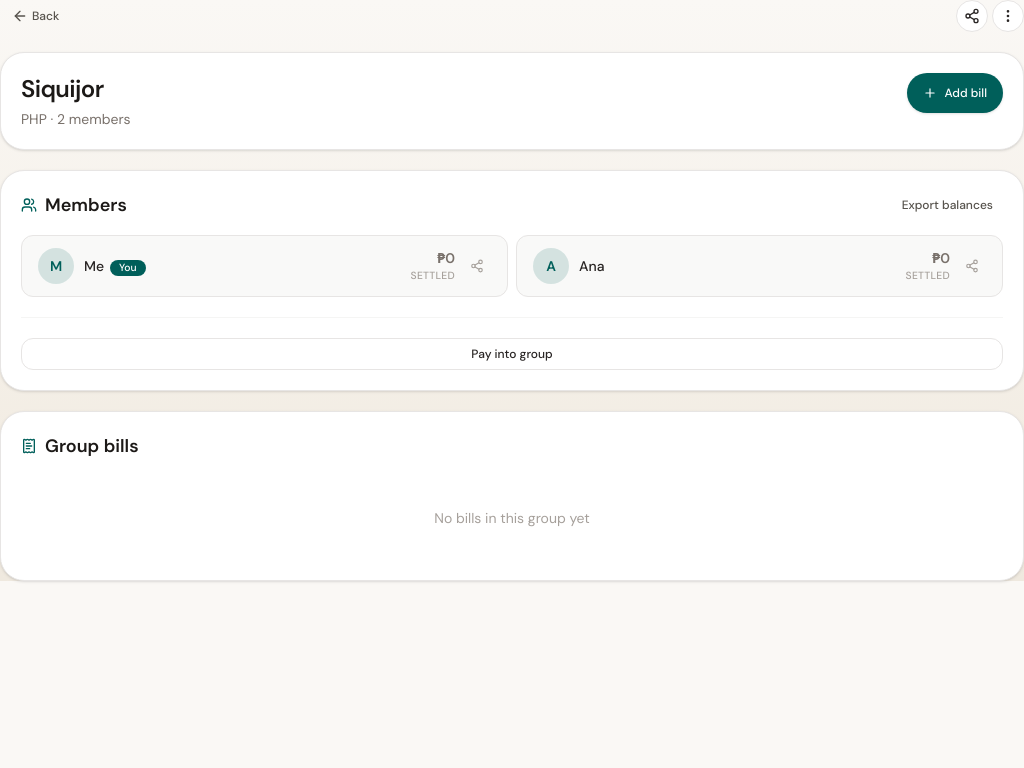
Test: GroupDetailPage payment history, server-paged (C8) › C8/C17: Show older asks for the 20 items before the last one, keyed on its PRIMARY leg, not its item id
Click the button named "Group options". click: (1008, 16)
box: [992,0,1023,32]
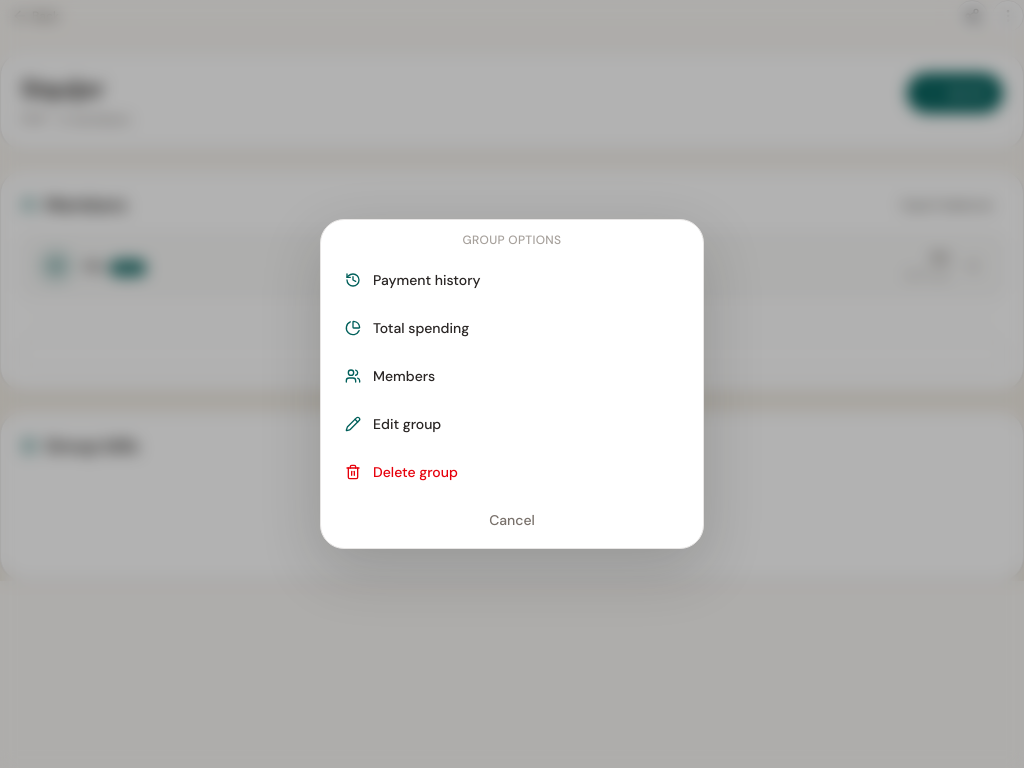
Expected: the button "Payment history" is shown
Click the button "Payment history". click: (427, 280)
box: [329,256,695,304]
(page scrolled)
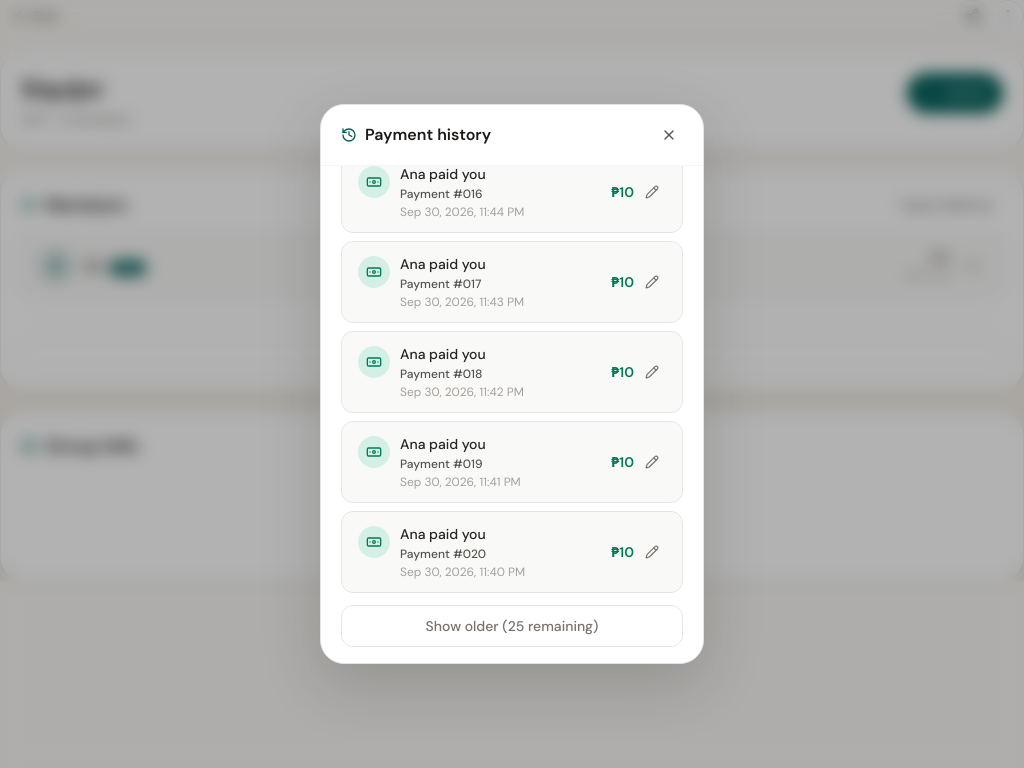
Expected: the button "Show older (25 remaining)" is shown
Click the button "Show older (25 remaining)". click: (512, 626)
box: [341,605,683,647]
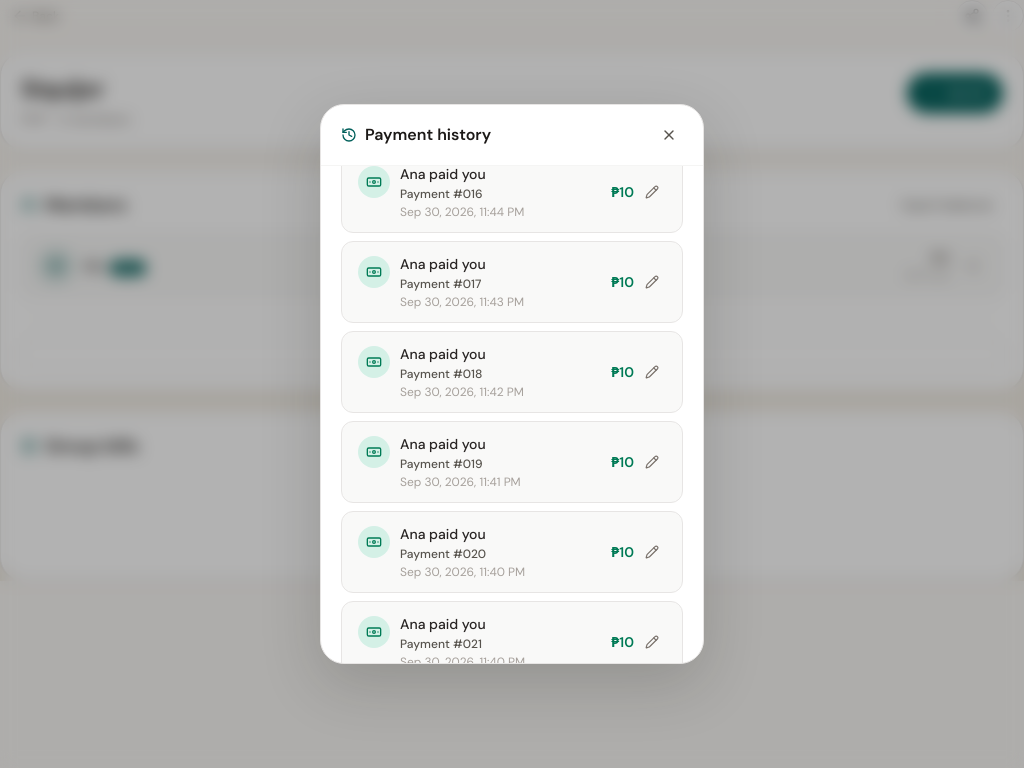
Expected: the text "Payment #021" is shown, [400,636,482,652]
